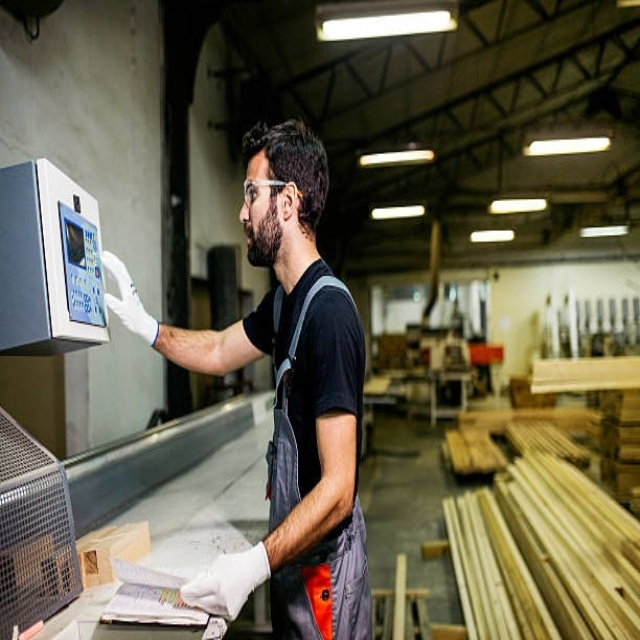Gafas: (245, 179, 297, 205)
Guantes: (177, 541, 270, 621), (100, 252, 159, 348)
Sin_mascara: (241, 215, 268, 265)
